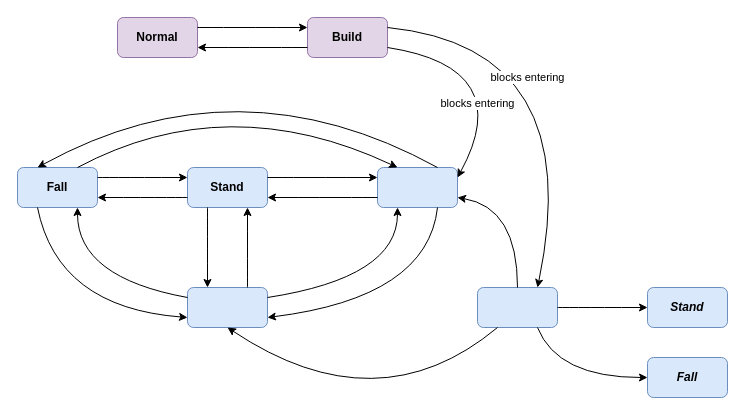
Image size: 745x415. Some labels were removed from this diagram. Here are the shapes that lost their labels. From the top down, the centre of each, then its label:
(x=417, y=187): Jump
(x=227, y=307): Run
(x=517, y=307): Shoot
